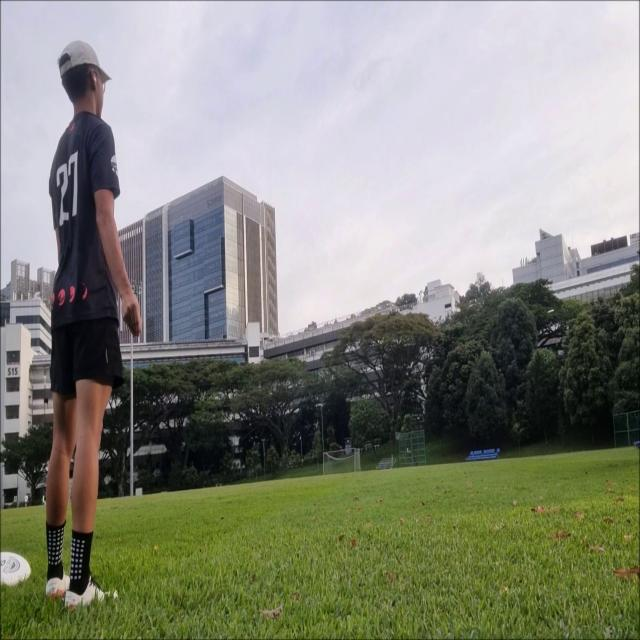disc: (547, 308, 555, 314)
